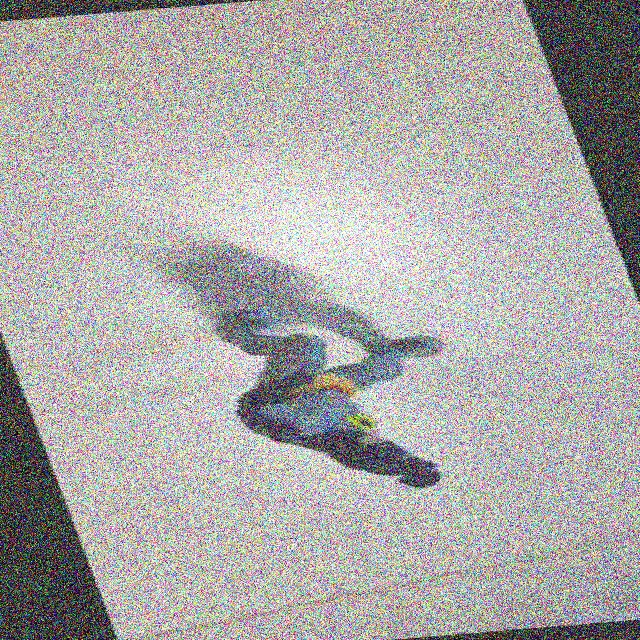Batman: (170, 291, 500, 517)
